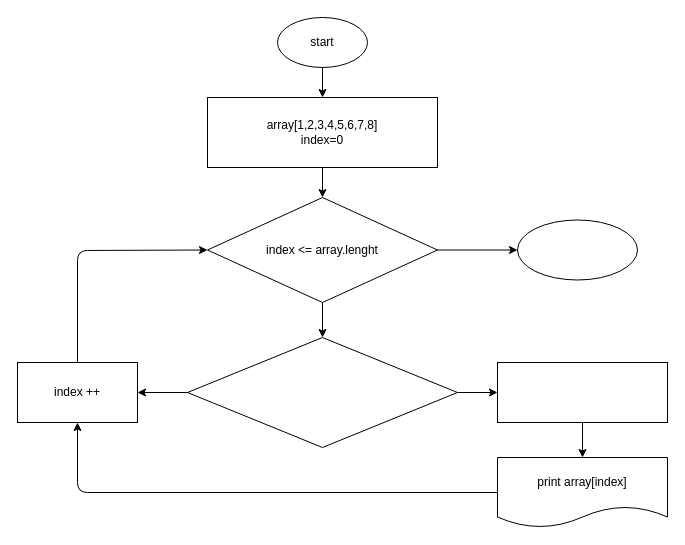
The diagram is 685 pixels wide and 545 high, and some of its shapes have lost their labels. The box of each missing label's shape, as (x1, y1, x2, y2) in pixels:
array[index] % 2 == 0: (186, 336, 458, 448)
array[index] = array[inex]*array[index]: (496, 362, 668, 422)
end: (516, 219, 638, 280)
